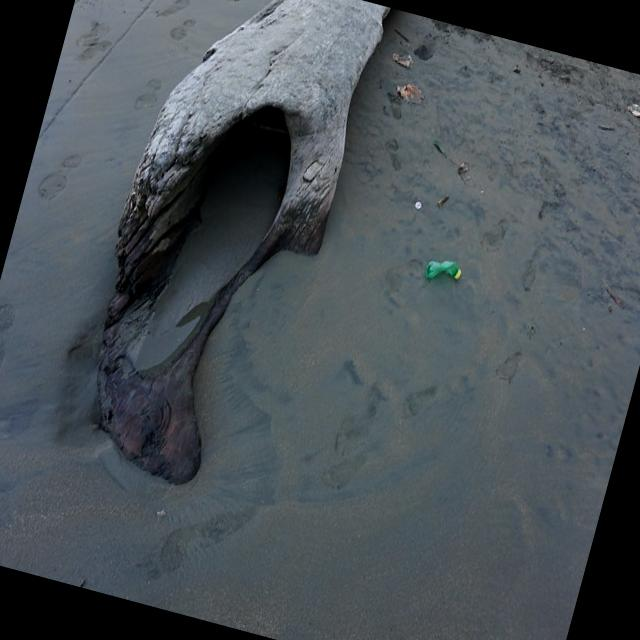Recycle: (421, 251, 466, 293)
Trash: (377, 46, 434, 109), (618, 95, 640, 125)
